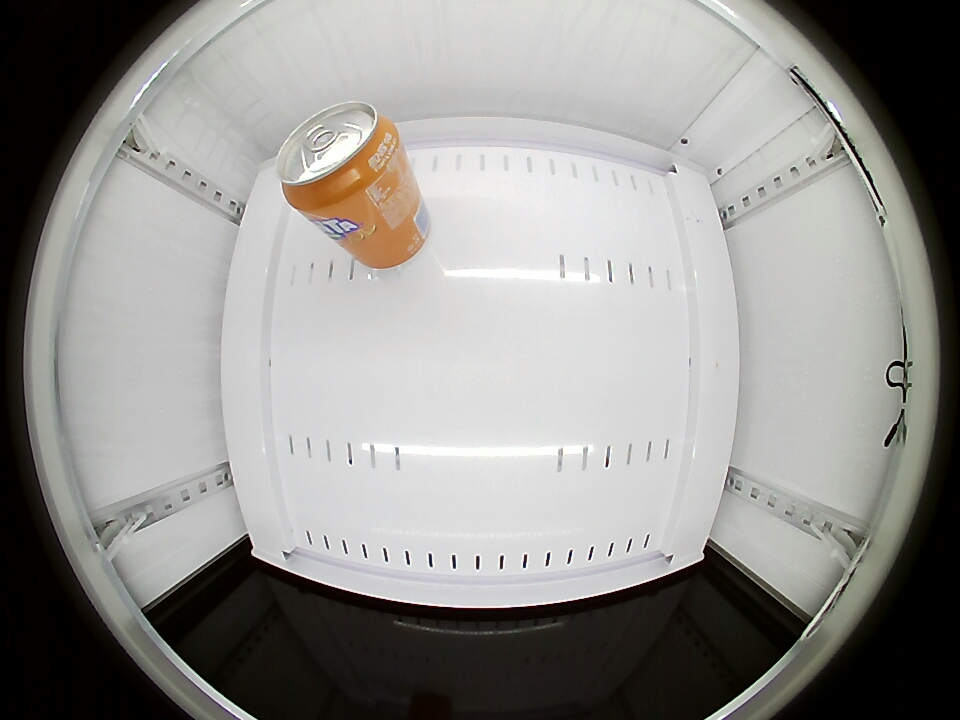fenda: (276, 102, 401, 214)
